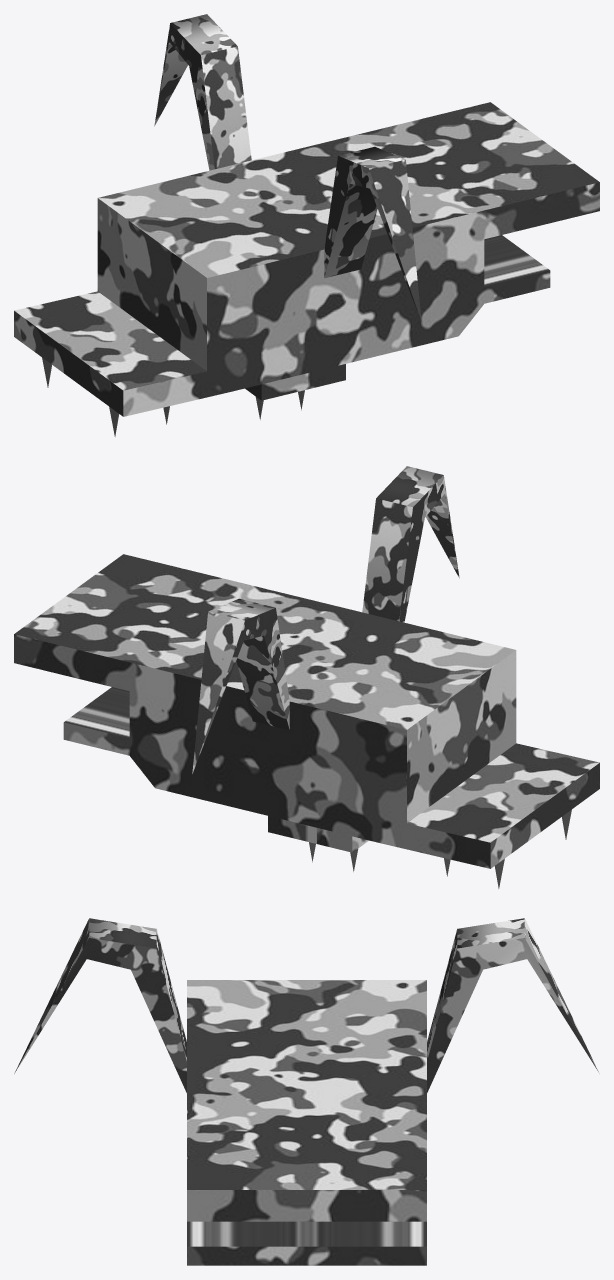
Rendered from HumanMothershipV2.fbx.
3 renders of one model, top to bottom at view 1: azimuth 30°, elevation 25°; view 2: azimuth 150°, elevation 25°; view 3: azimuth 270°, elevation 25°, orthographic. The views are drawn at different scales.
Visible parts, largest first — view 1: Body, RightTalon, LeftTalon; view 2: Body, LeftTalon, RightTalon; view 3: Body, RightTalon, LeftTalon.
Part boxes in pixels (x1=…): Body: x1=14, y1=102, x2=599, y2=416; RightTalon: x1=324, y1=146, x2=421, y2=321; LeftTalon: x1=154, y1=14, x2=251, y2=170; Body: x1=14, y1=554, x2=599, y2=868; LeftTalon: x1=192, y1=598, x2=289, y2=773; RightTalon: x1=362, y1=466, x2=459, y2=622; Body: x1=187, y1=980, x2=426, y2=1265; RightTalon: x1=14, y1=918, x2=186, y2=1092; LeftTalon: x1=427, y1=918, x2=599, y2=1092.
Bounding box in the file's own units: 17.91 × 10.9 × 17.41.
Materials: 3 (1 with a texture image).
